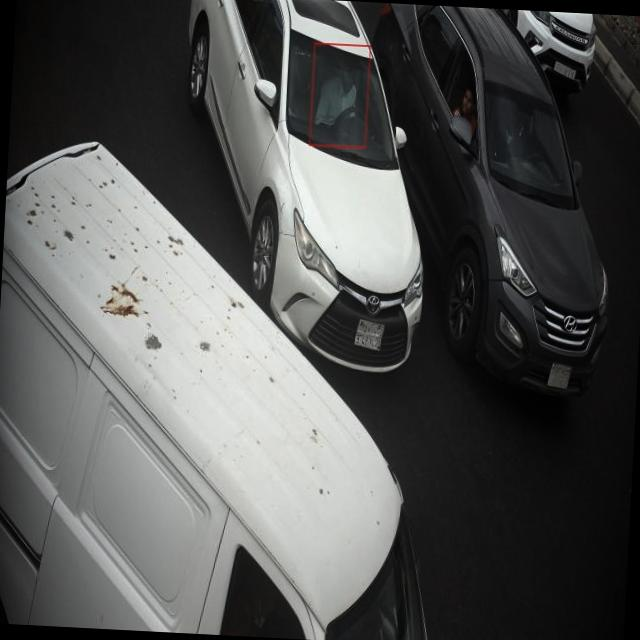person_without_seatbelt: (316, 72, 368, 136)
